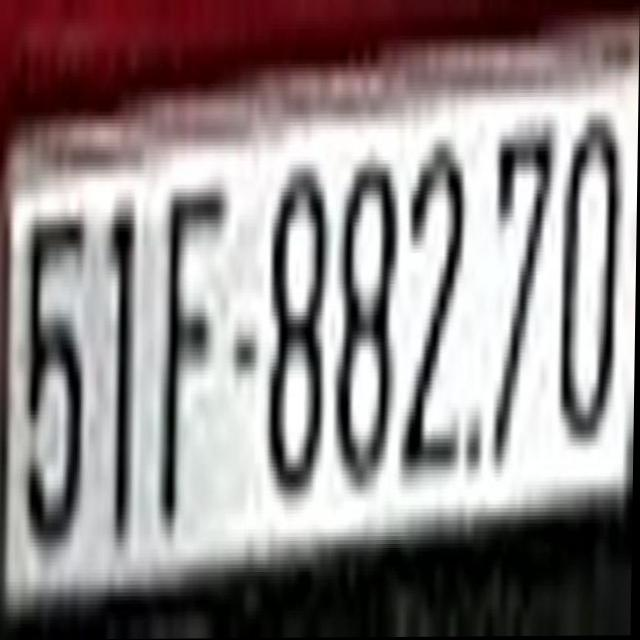0: (560, 112, 618, 455)
1: (103, 189, 141, 573)
2: (404, 133, 464, 486)
5: (25, 205, 87, 570)
7: (482, 113, 560, 478)
8: (267, 153, 330, 506), (338, 153, 395, 491)
F: (161, 169, 225, 531)
